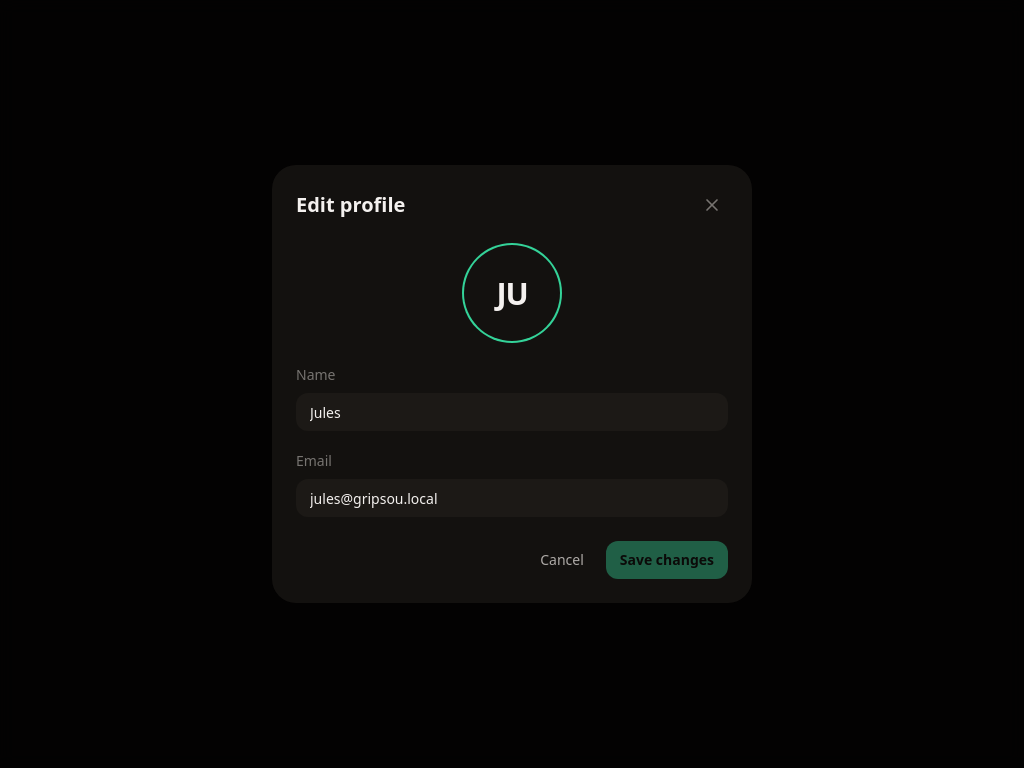
Test: EditProfileModal › says saving failed on any other error
Replace the text in the field labelled "Name" with "Jules R": (512, 412) [296, 393, 728, 431]
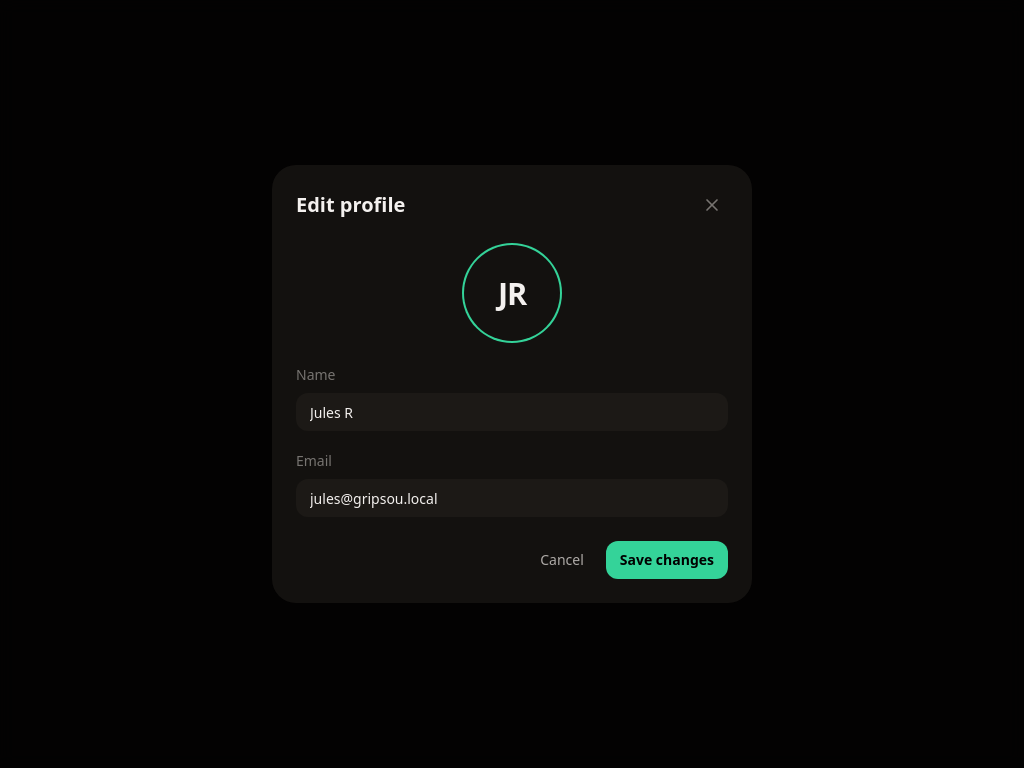
Click the button "Save changes": (667, 560) [606, 541, 728, 579]
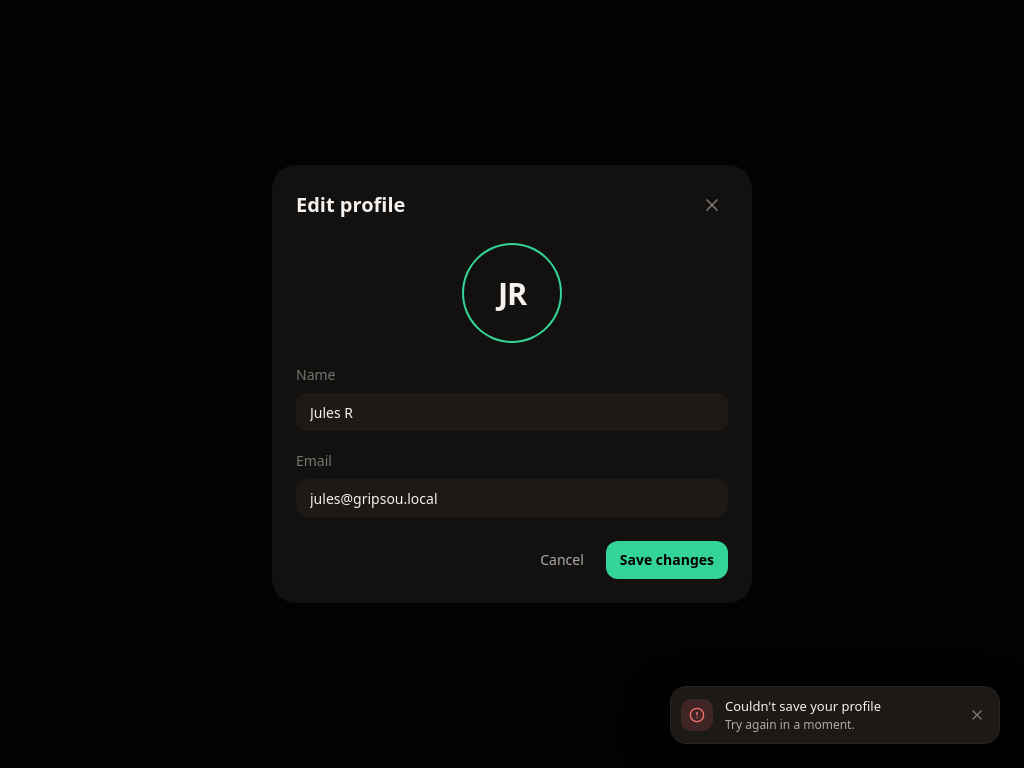
Check: the text "Couldn't save your profile" is shown, box [725, 697, 881, 715]
